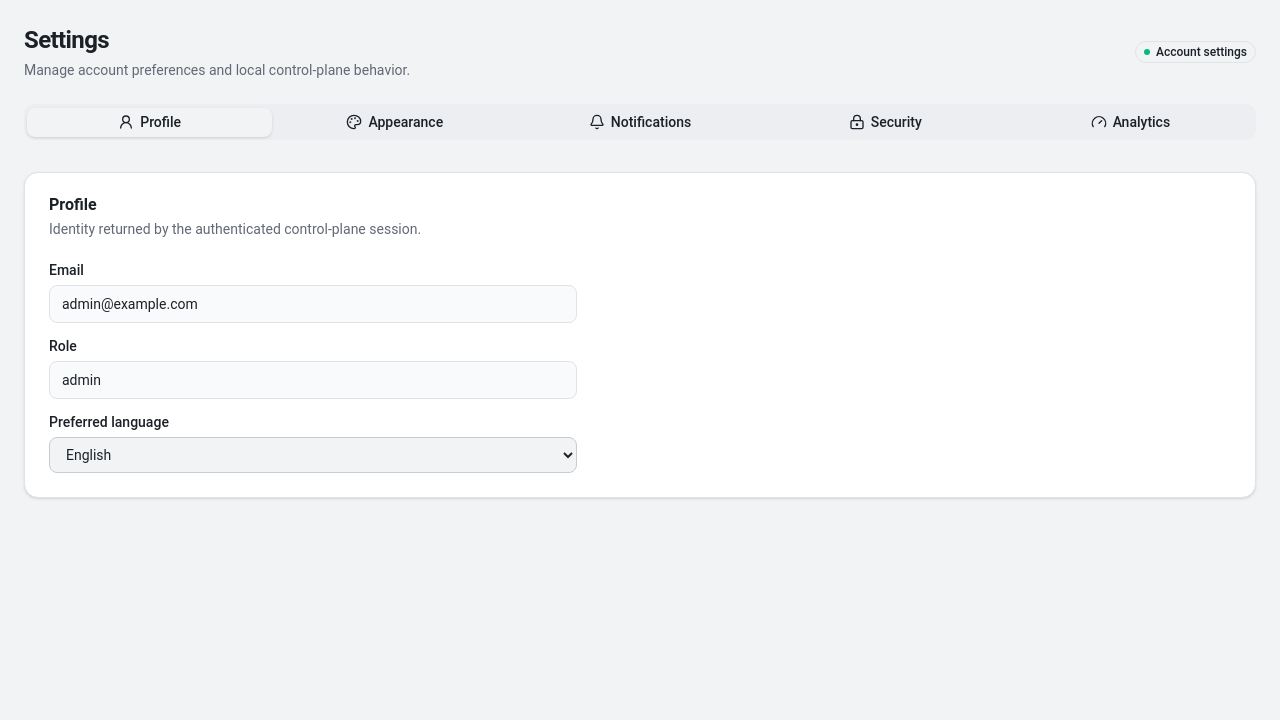
it: account settings › reports that the language is local-only when the account API fails
Select "Bahasa Indonesia" in the dropdown with id "settings-locale". click: (313, 455)
box: [49,437,577,473]
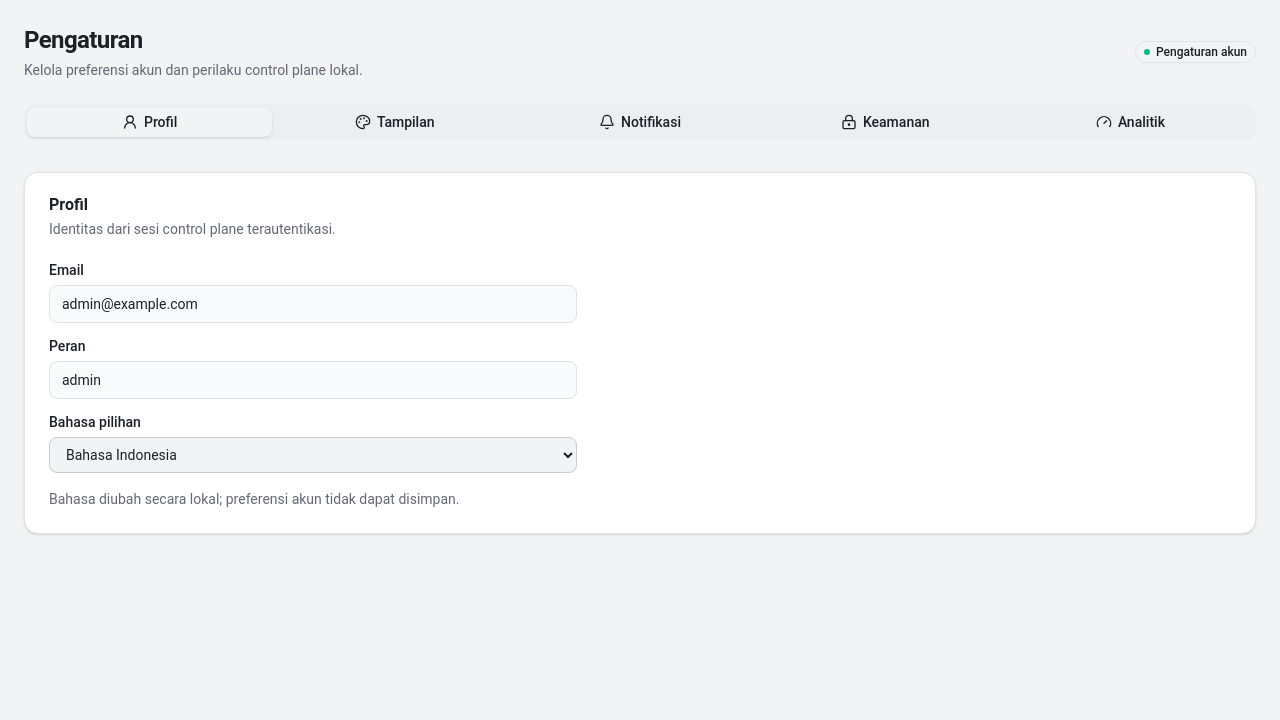
Now the message "Bahasa diubah secara lokal; preferensi akun tidak dapat disimpan." is shown, box [49,491,460,507]
